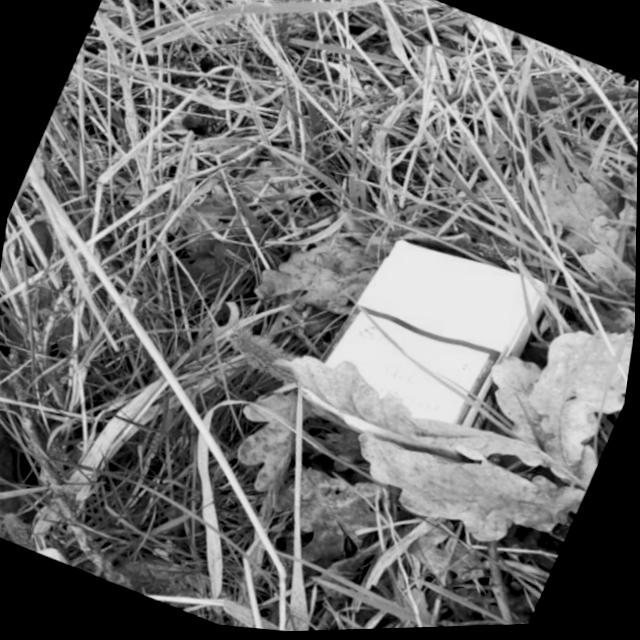Paper: (288, 222, 560, 491)
